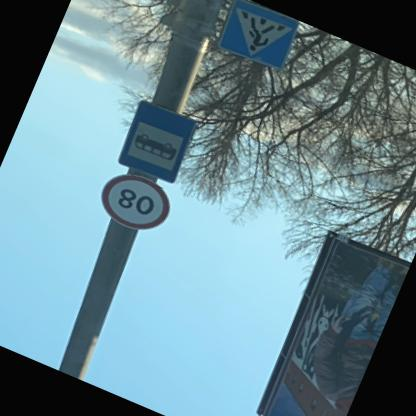crosswalk: (210, 0, 300, 76)
speedlimit: (90, 164, 176, 240)
